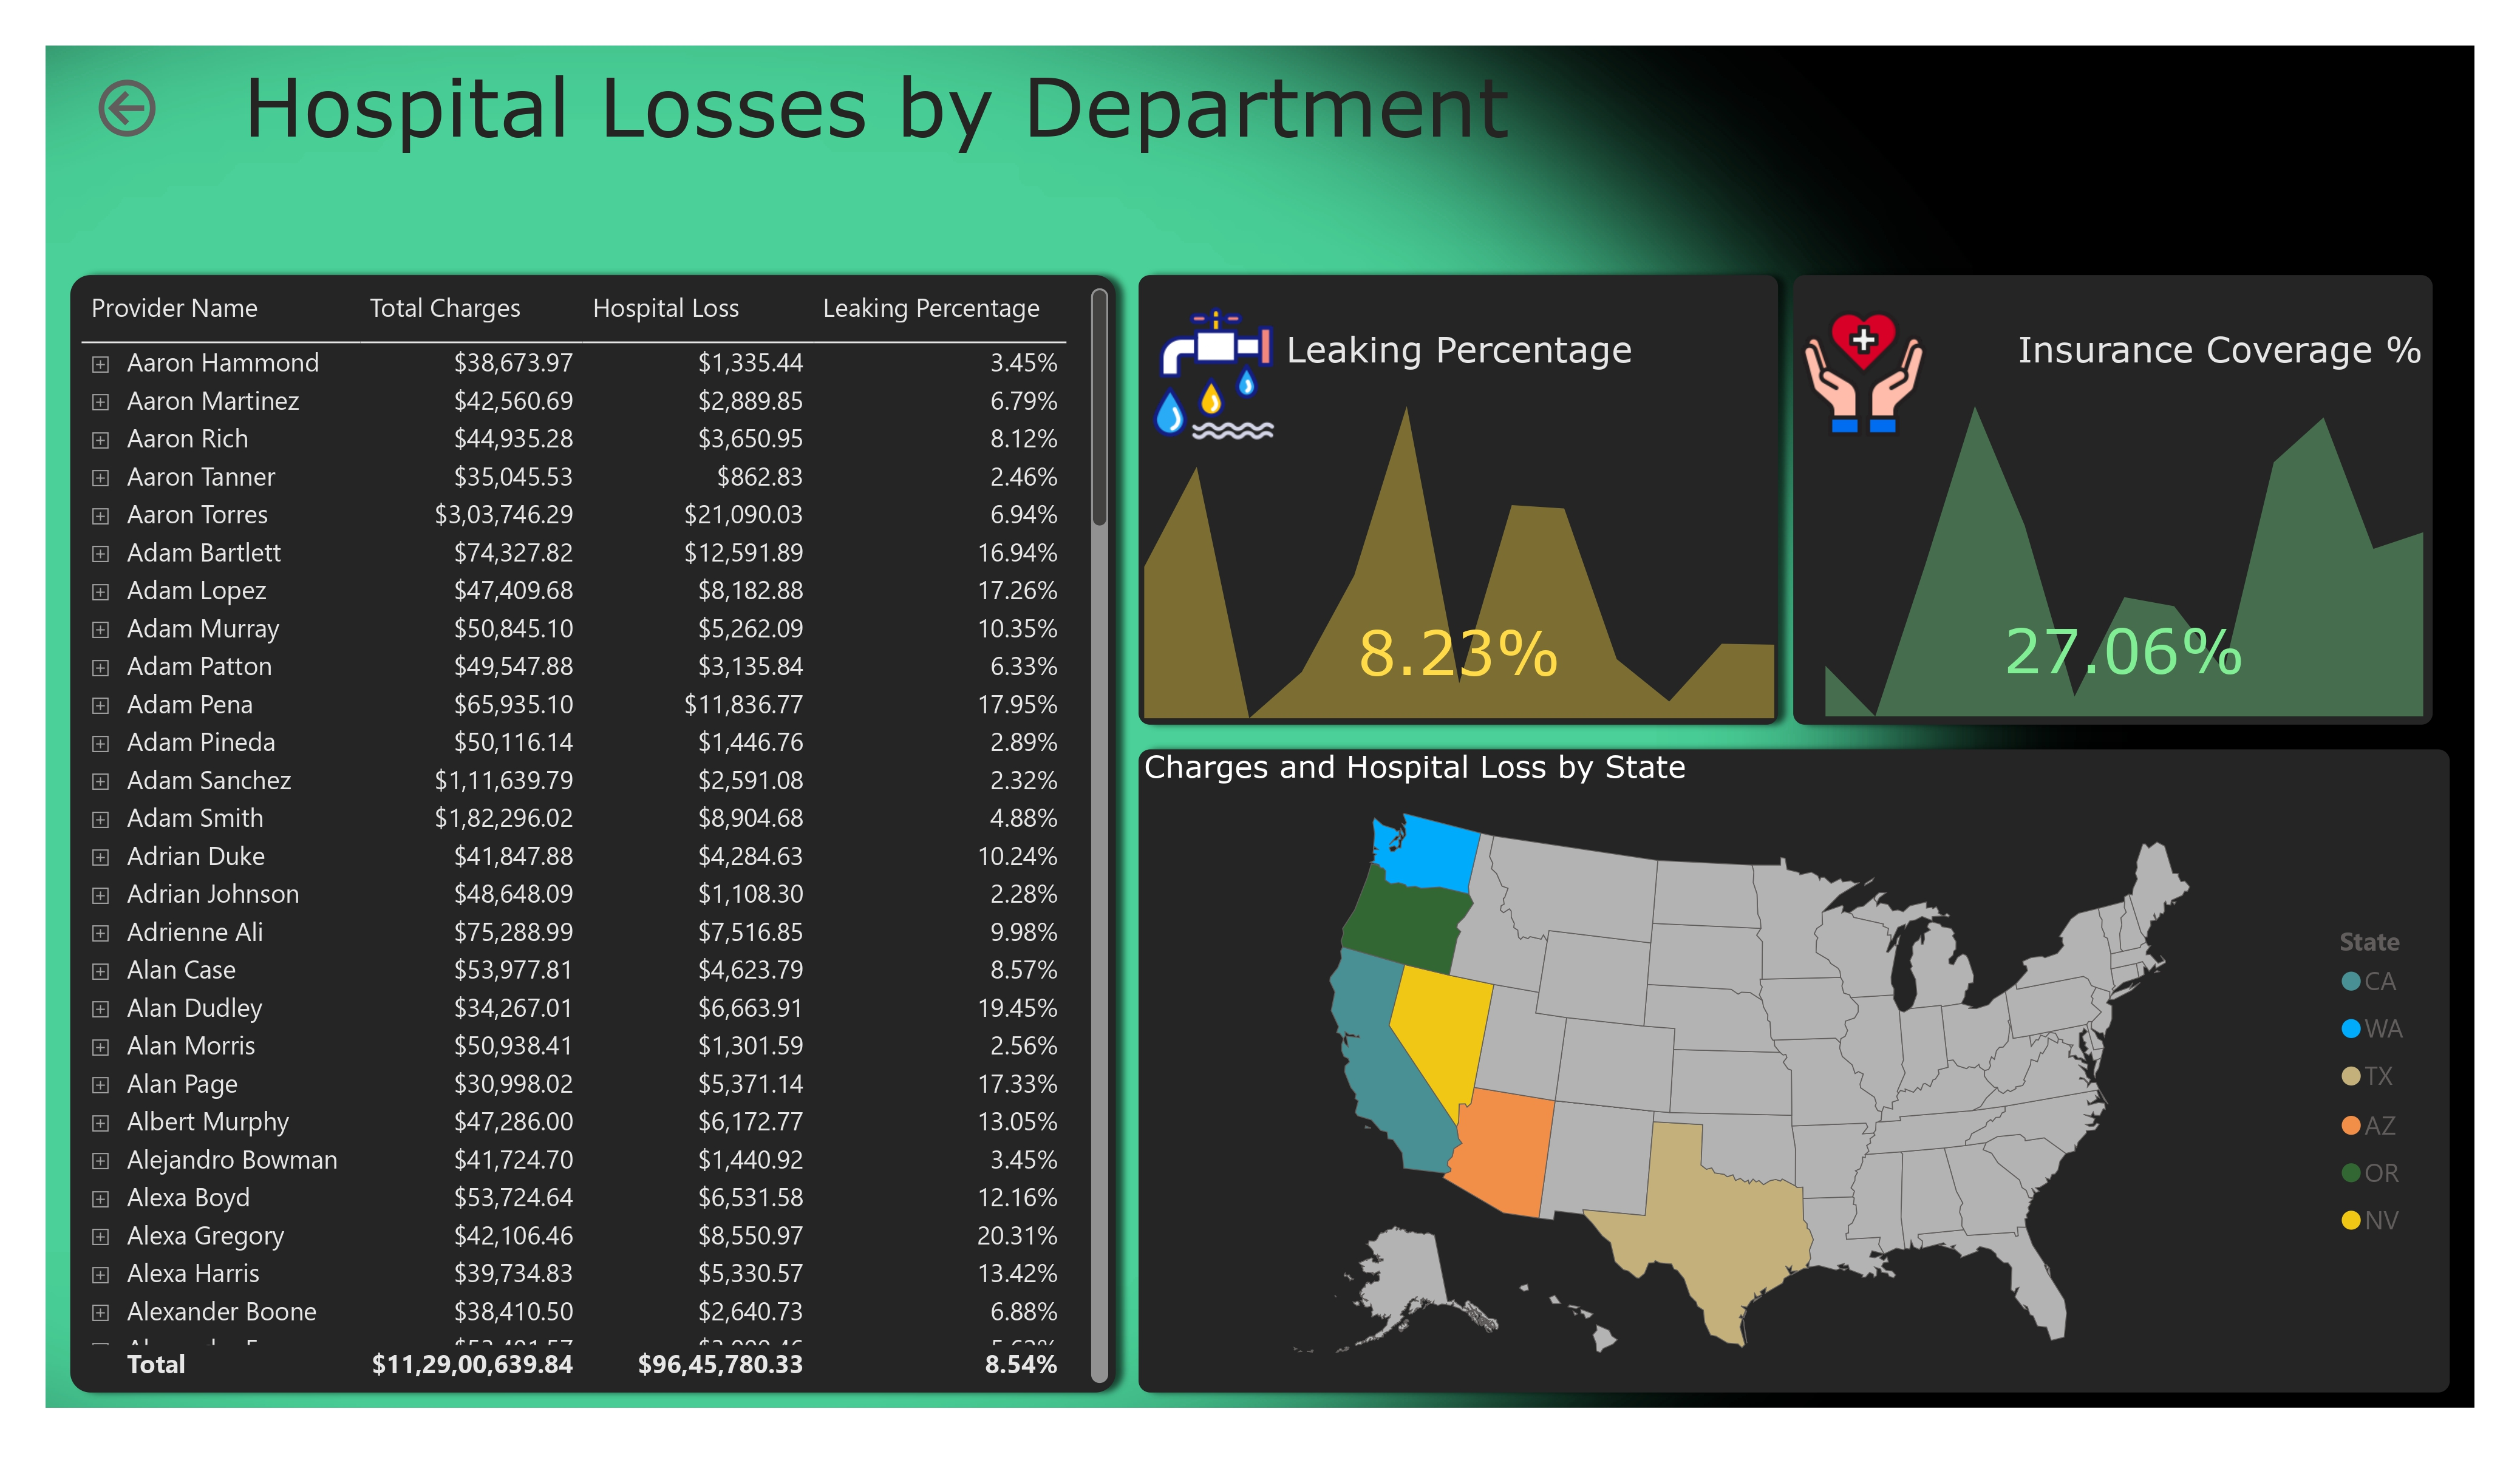

This screenshot's page, from the dashboard's own definition file:
{"tool":"powerbi","page":{"name":"Hospital Loss Details","canvas":[1280,720],"ordinal":8},"visuals":[{"type":"actionButton","box":[22.5,12.5,76.2,40],"z":0},{"type":"textbox","box":[98.8,0,683.8,66.2],"z":1000},{"type":"pivotTable","fields":{"Rows":["Providers.Full Name","Patients.Full Name","Encounters.encounter_id"],"Values":["_Measures.Total Charges","_Measures.Hospital Loss","_Measures.Leaking Percentage"]},"box":[13.8,122.5,551.2,587.5],"z":2000},{"type":"shapeMap","title":"Charges and Hospital Loss by State","fields":{"Value":["_Measures.Total Charges"],"Category":["Patients.state"],"Series":["Patients.state"]},"box":[573.8,370,692.5,340],"z":3000},{"type":"kpi","title":"Leaking Percentage","fields":{"Indicator":["_Measures.Leaking Percentage"],"TrendLine":["Calendar.Week Label"],"Goal":["_Measures.Leaking Target"]},"box":[573.8,147.5,342.5,212.5],"z":4000},{"type":"kpi","title":"Insurance Coverage % ","fields":{"Indicator":["_Measures.Insurance Coverage %"],"TrendLine":["Calendar.Week Label"],"Goal":["_Measures.Coverage Goal"]},"box":[932.5,147.5,325,211.2],"z":5000}]}

Visuals, with their boxes in screenshot pixels (x1, y1, x2, y2):
actionButton: detection(57, 50, 205, 128)
textbox: detection(205, 26, 1533, 155)
pivotTable - Providers.Full Name x Patients.Full Name: detection(40, 264, 1110, 1404)
"Charges and Hospital Loss by State" shapeMap: detection(1127, 744, 2471, 1404)
"Leaking Percentage" kpi: detection(1127, 313, 1792, 725)
"Insurance Coverage % " kpi: detection(1824, 313, 2454, 722)
